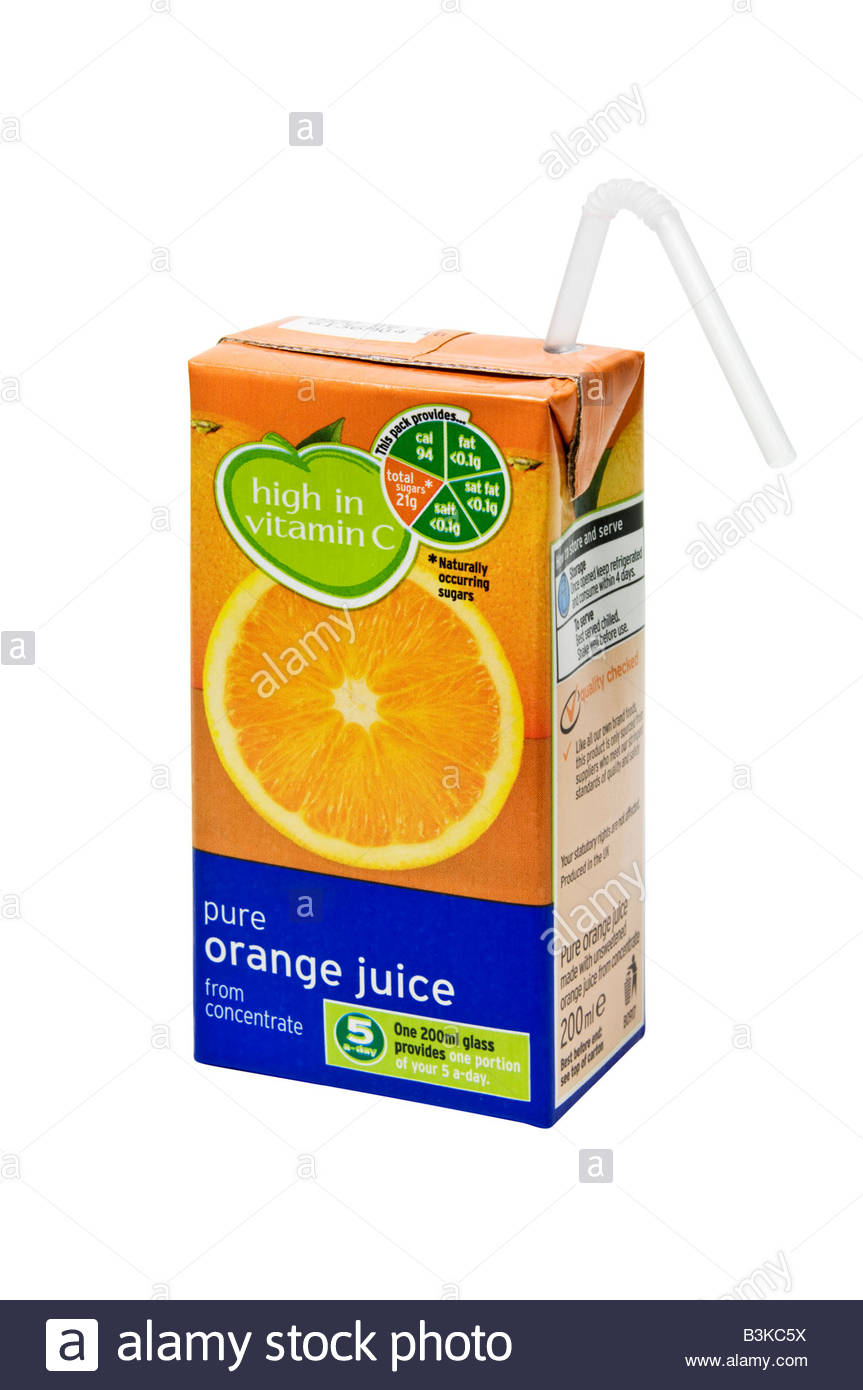carton: (158, 201, 718, 1172)
